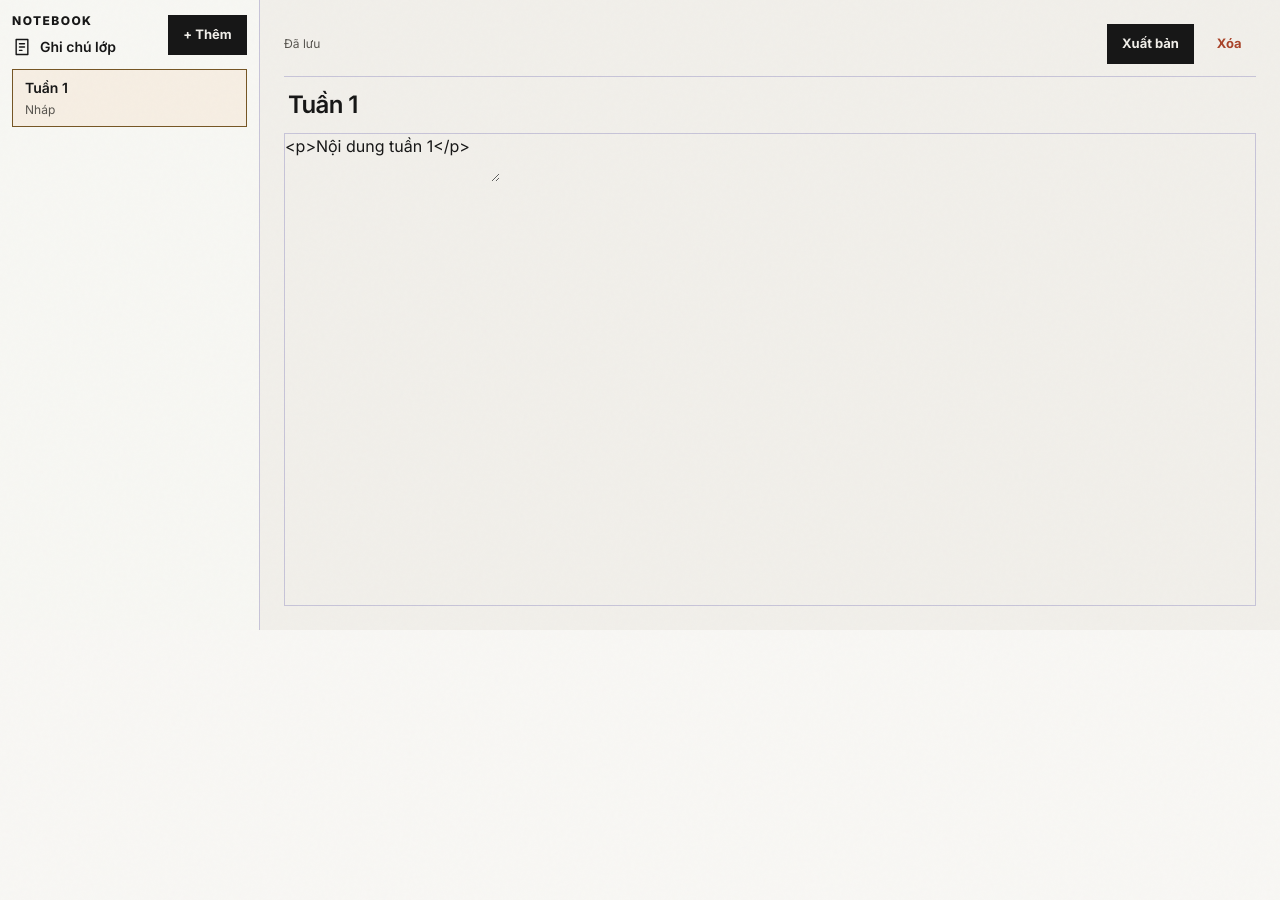
Test case: ClassNotesAdminWorkspace › autosaves title and content after editing stops
Replace the text in the field showing "Tuần 1" with "Tuần 2" at (770, 105), box [284,89,1256,121]
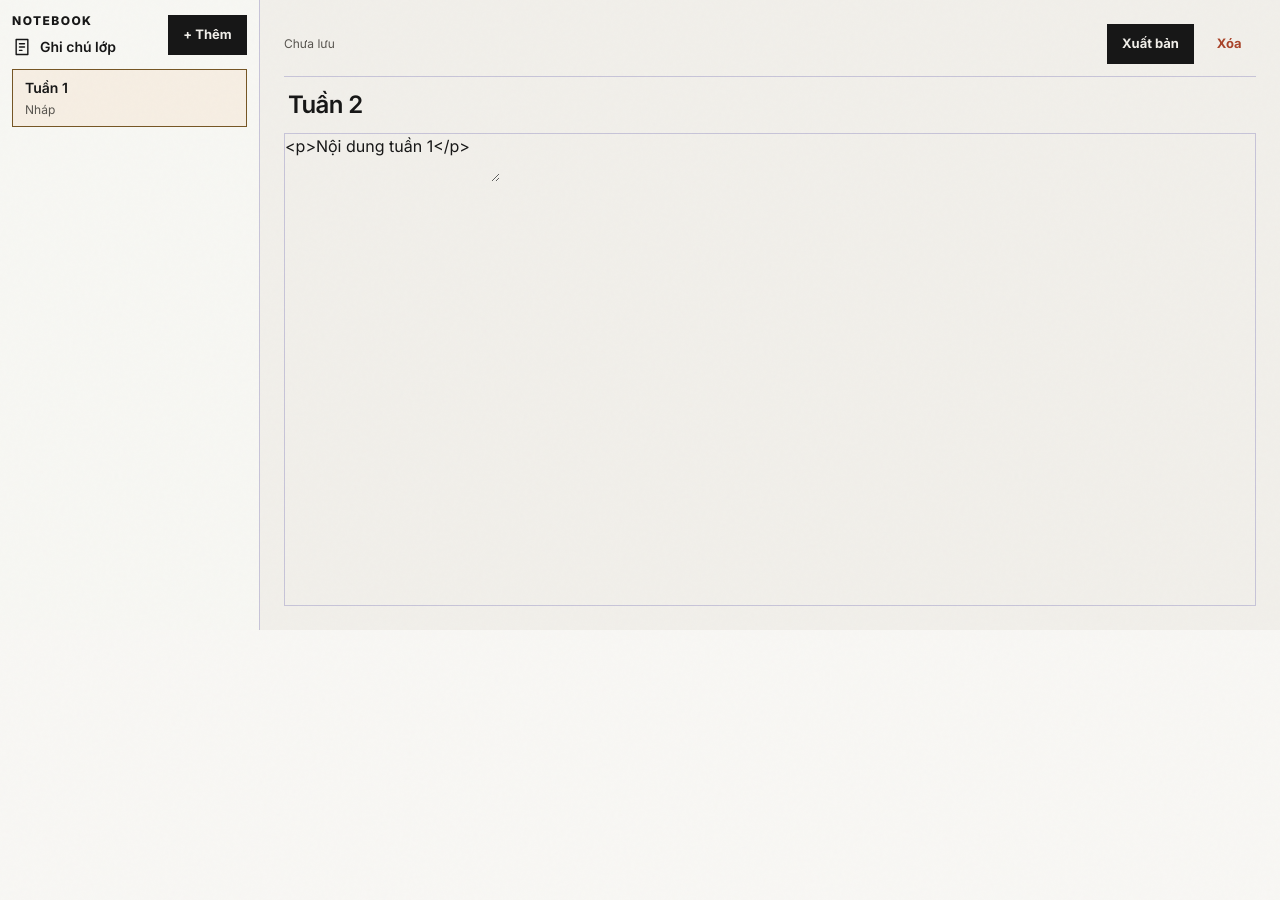
Replace the text in the text box named "Nội dung note" with "<p>Nội dung mới</p>" at (392, 158), box [285,134,500,182]
Wait 700 ms
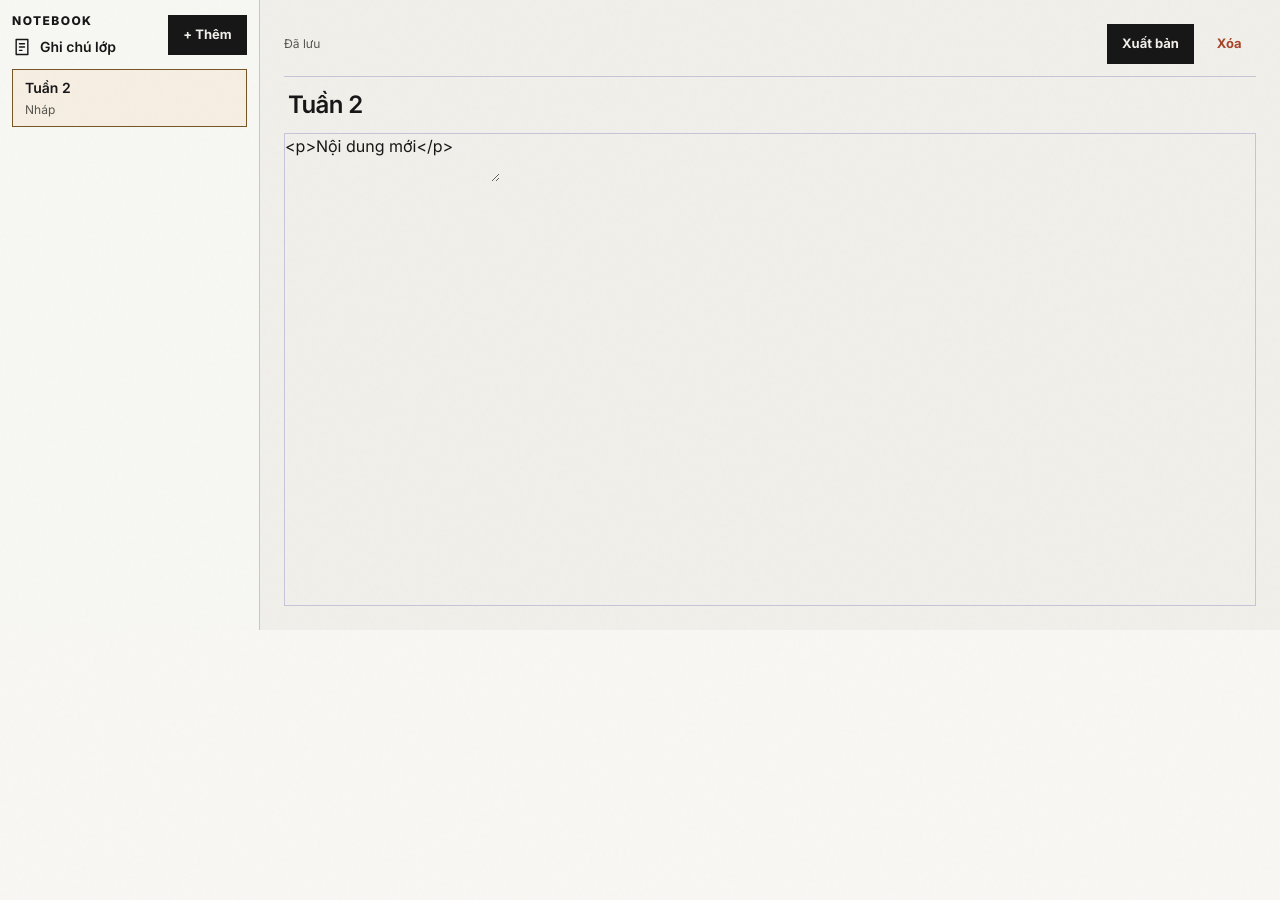
Result: the text "Đã lưu" is shown at [284,36,320,52]
